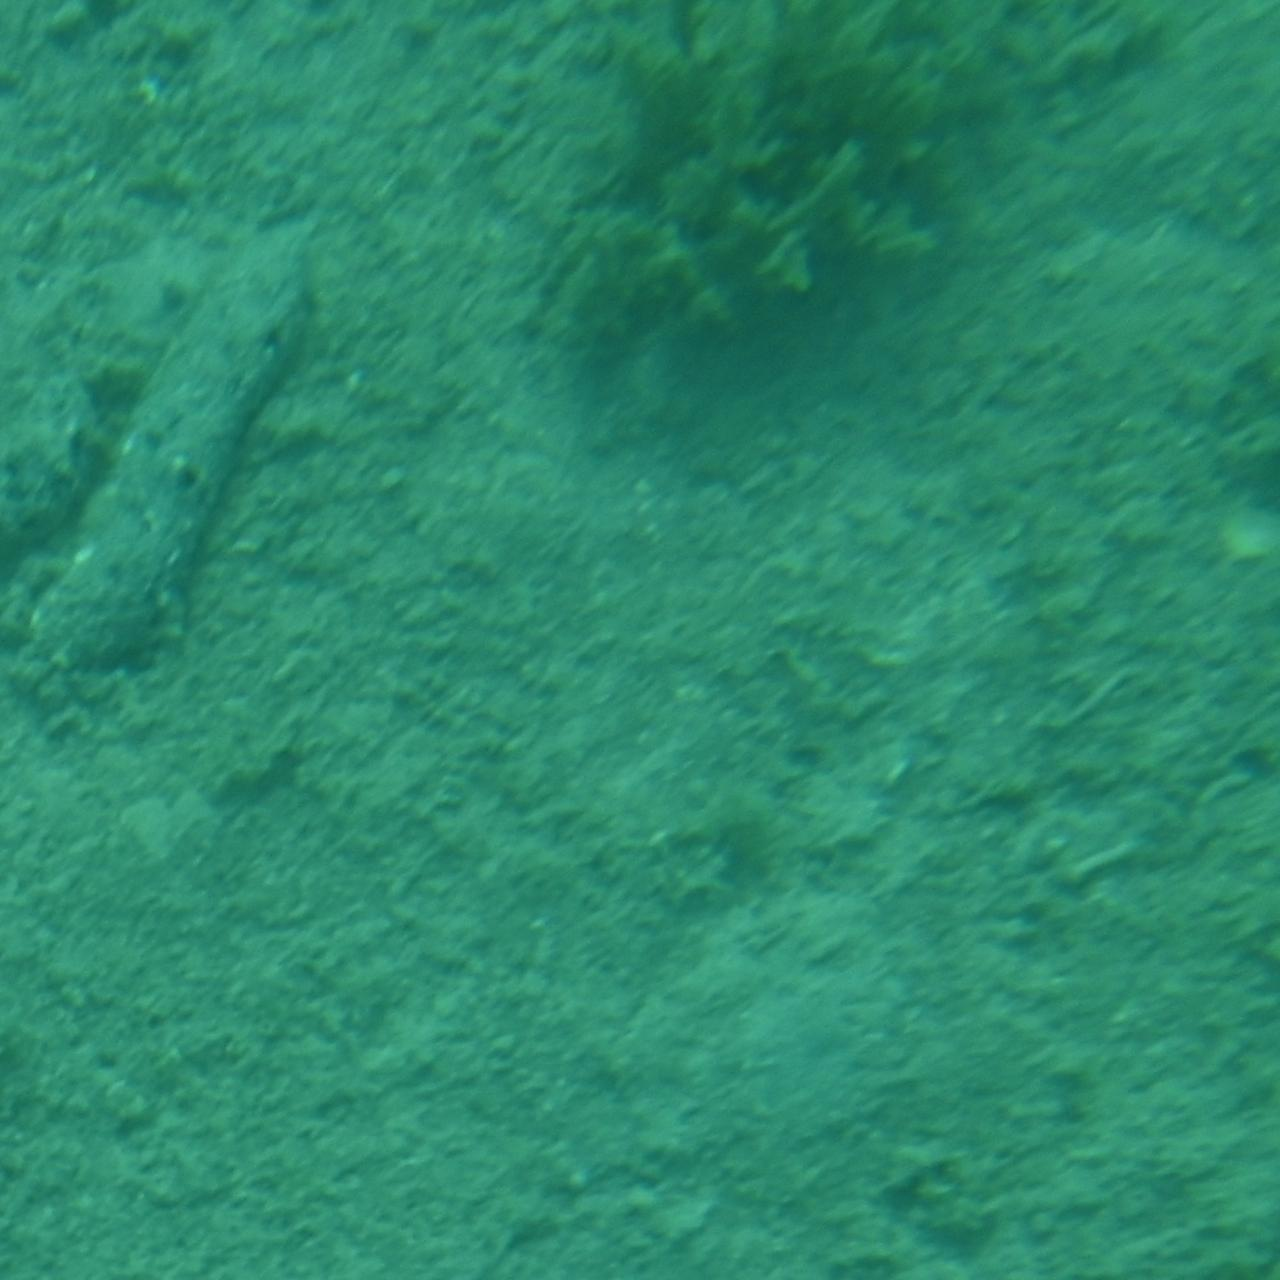Holothuria tubulosa: (18, 209, 343, 683), (0, 406, 189, 644)
Phaeophyceae -cfr Cystoseira-: (520, 0, 1077, 358), (1115, 270, 1280, 558)
